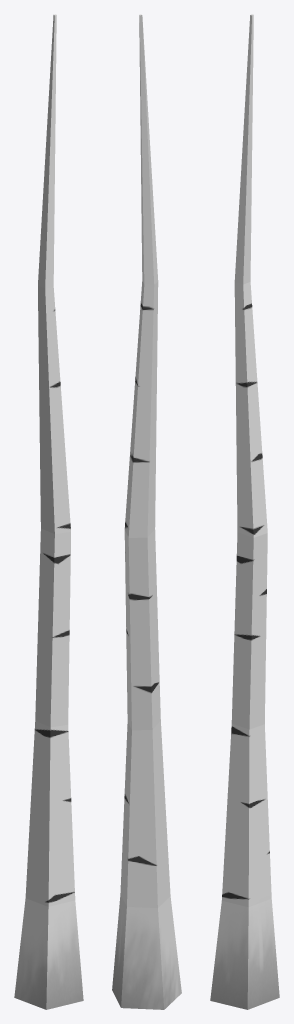
File: Birch_Tree_NoLeaves_m_BT_03.fbx
3 views of the same model, side by side, from view 1: azimuth 30°, elevation 25°; view 2: azimuth 210°, elevation 25°; view 3: azimuth 330°, elevation 25° (orthographic).
Parts seen in each view (by area): view 1: Birch_Tree_NoLeaves_m_BT_03; view 2: Birch_Tree_NoLeaves_m_BT_03; view 3: Birch_Tree_NoLeaves_m_BT_03.
Part boxes in pixels (<box>): Birch_Tree_NoLeaves_m_BT_03: <box>14,14,83,1009</box>; Birch_Tree_NoLeaves_m_BT_03: <box>112,14,181,1009</box>; Birch_Tree_NoLeaves_m_BT_03: <box>210,14,279,1009</box>.
Bounding box in the file's own units: 33.41 × 517 × 31.77.
